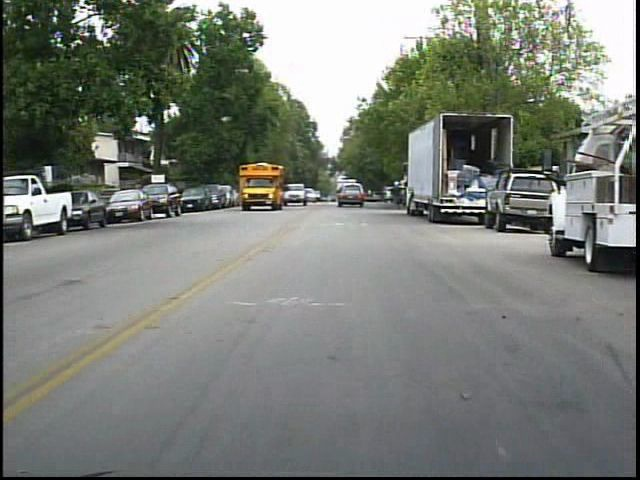person: (391, 177, 409, 214)
